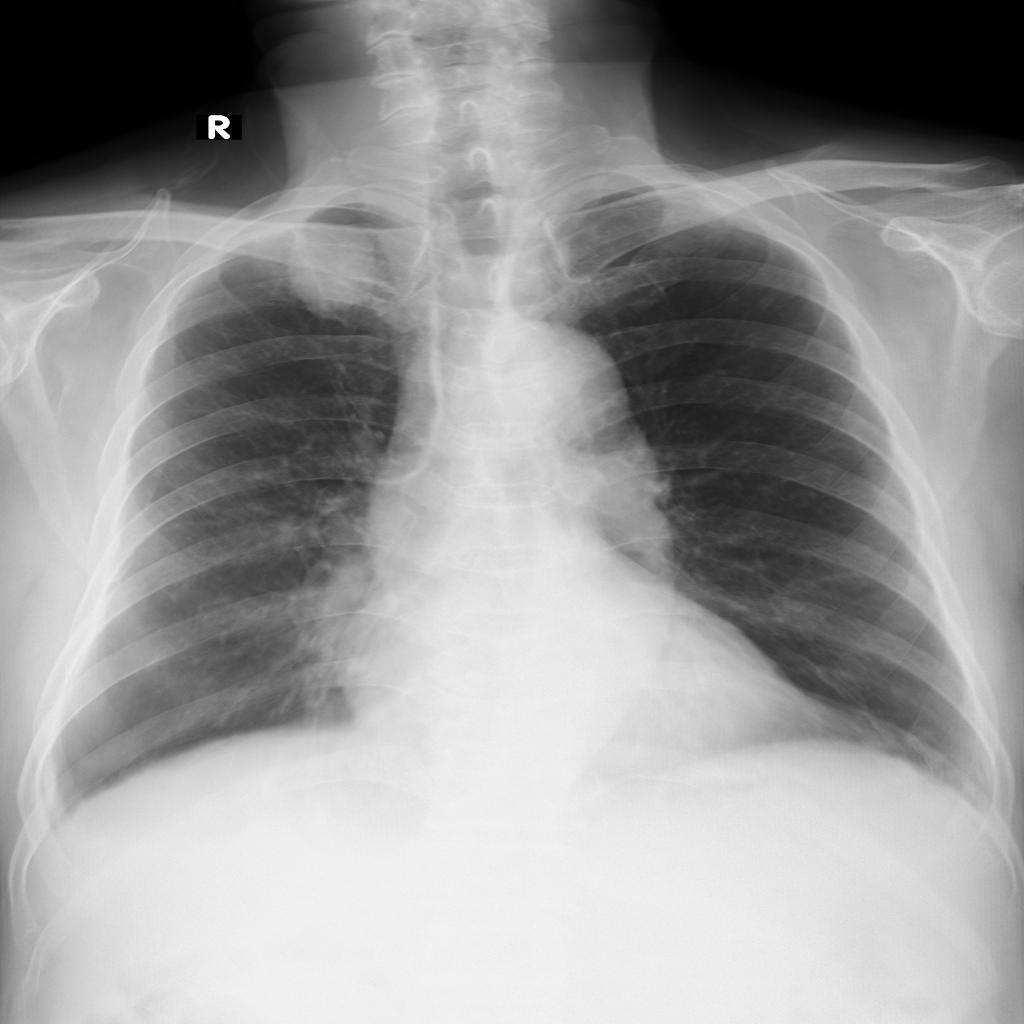Nodule: (280, 219, 377, 309)
